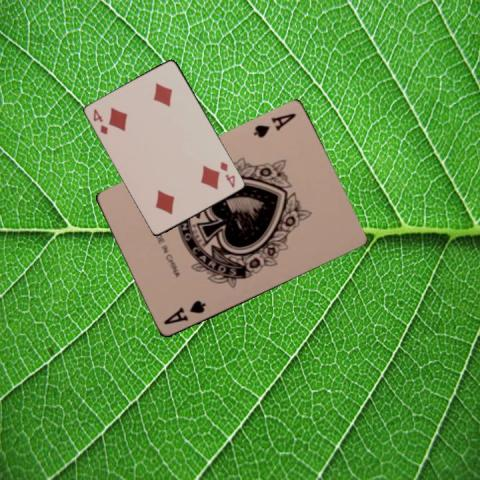4d: (217, 159, 237, 189), (91, 105, 109, 136)
As: (160, 297, 207, 327), (250, 111, 297, 140)
